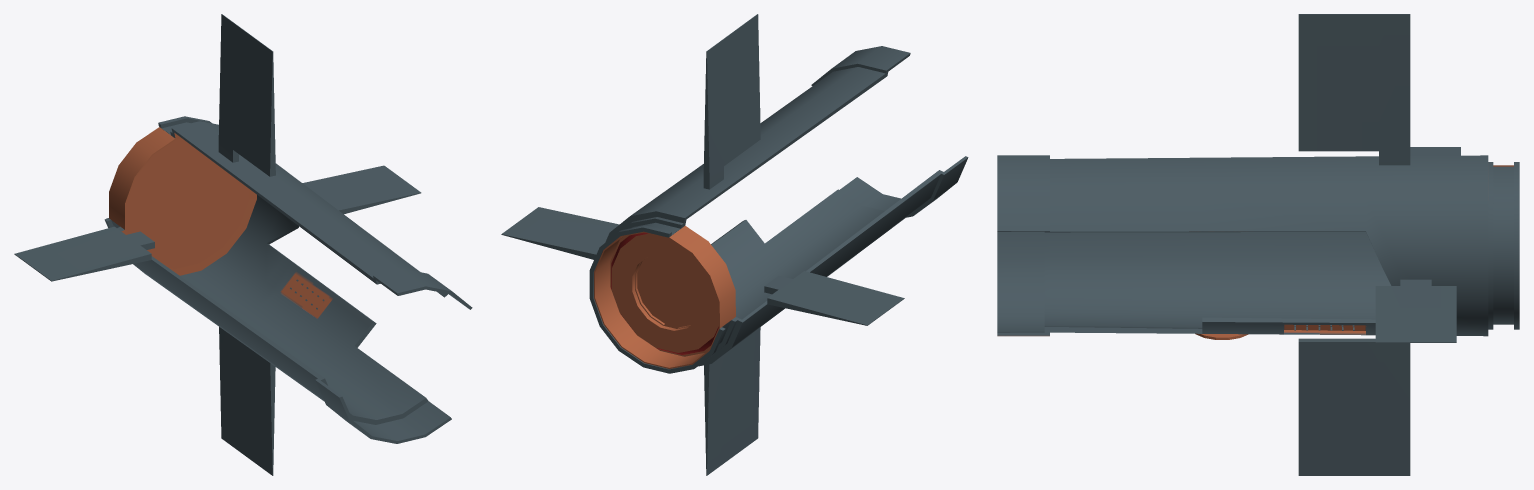
Rendered from ЗУР-РулеваяМашина_Р.fbx.
3 renders of one model, left to right at view 1: azimuth 30°, elevation 25°; view 2: azimuth 150°, elevation 25°; view 3: azimuth 270°, elevation 25°, orthographic. The views are drawn at different scales.
Parts seen in each view (by area): view 1: Circle.022; view 2: Circle.022; view 3: Circle.022.
Part boxes in pixels (left/top/right/bottom): Circle.022: left=14, top=14, right=472, bottom=475; Circle.022: left=501, top=14, right=968, bottom=475; Circle.022: left=997, top=14, right=1519, bottom=475.
Size of the model in its own units: 149 by 164 by 168.
Materials: 1 (1 with a texture image).
